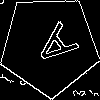A: (24, 20, 80, 76)
